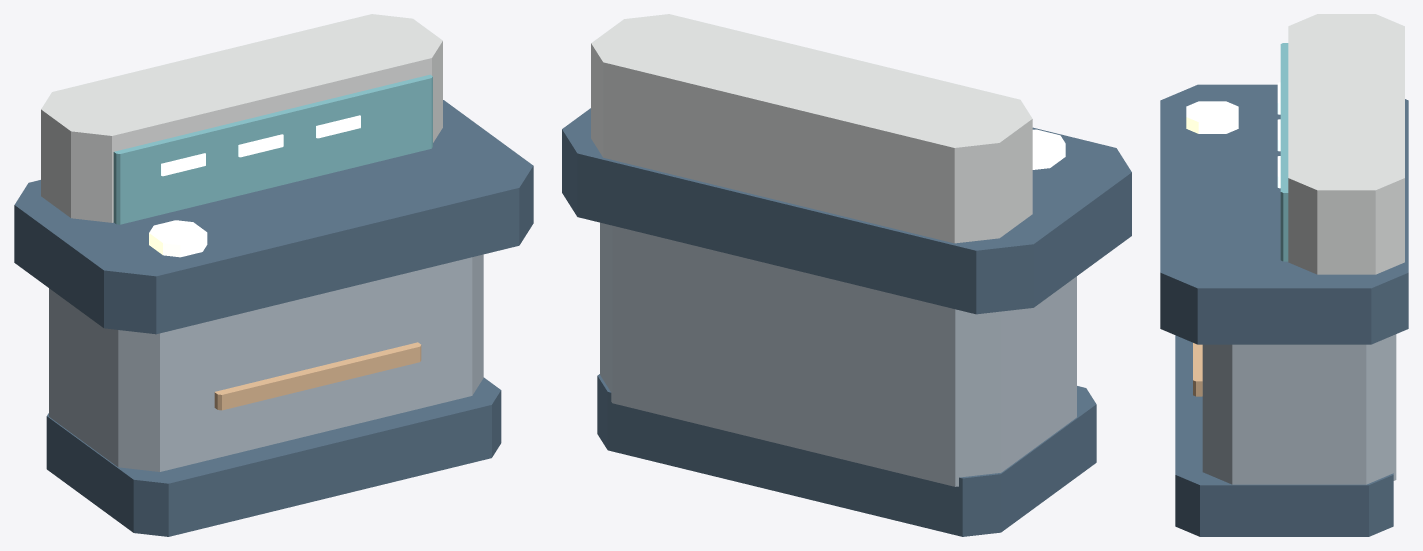
The model's file is terminal.glb.
3 renders of one model, left to right at view 1: azimuth 30°, elevation 25°; view 2: azimuth 150°, elevation 25°; view 3: azimuth 270°, elevation 25°, orthographic. The views are drawn at different scales.
Parts seen in each view (by area): view 1: terminal; view 2: terminal; view 3: terminal.
Part boxes in pixels (left/top/right/bottom): terminal: left=14, top=14, right=533, bottom=536; terminal: left=562, top=14, right=1131, bottom=536; terminal: left=1160, top=14, right=1408, bottom=536.
Size of the model in its own units: 1.94 by 1.54 by 1.
